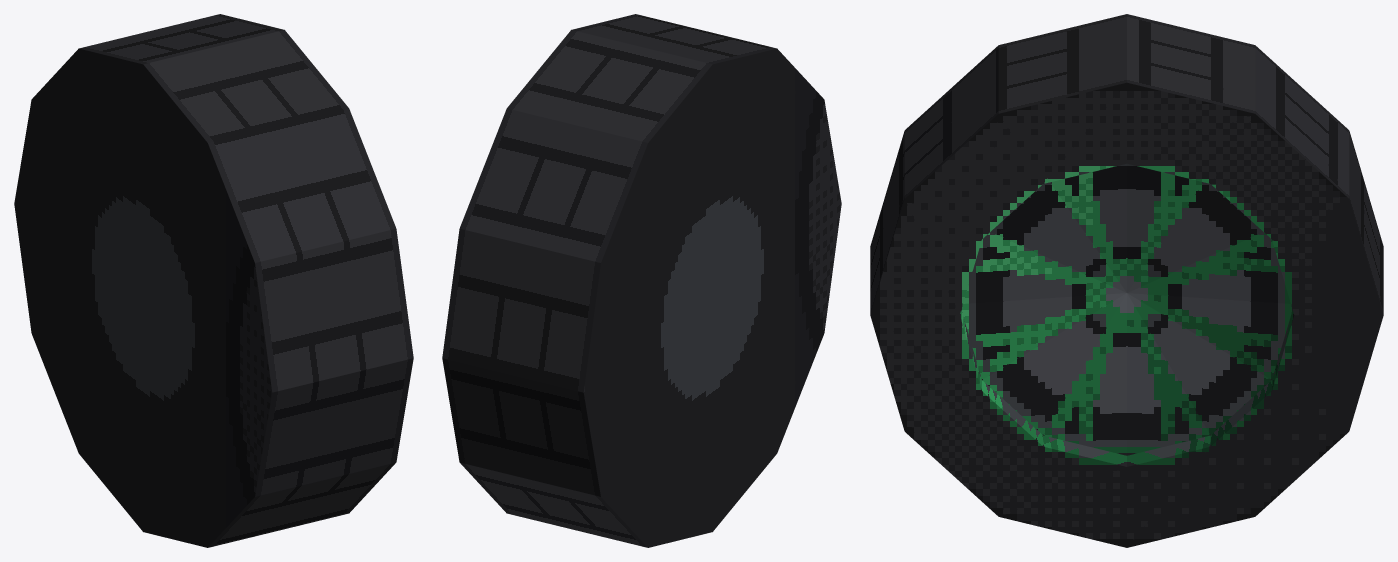
Rendered from wheel_eight.glb.
The picture shows the model from 3 angles, left to right: view 1: azimuth 30°, elevation 25°; view 2: azimuth 150°, elevation 25°; view 3: azimuth 270°, elevation 25°; orthographic projection.
Visible parts, largest first — view 1: wheel_eight; view 2: wheel_eight; view 3: wheel_eight.
Boxes of the visible parts, x1=… form: wheel_eight: x1=14, y1=14, x2=413, y2=547; wheel_eight: x1=442, y1=14, x2=841, y2=547; wheel_eight: x1=870, y1=14, x2=1383, y2=547.
Bounding box in the file's own units: 0.185 × 0.5845 × 0.5845.
Materials: 1 (1 with a texture image).
